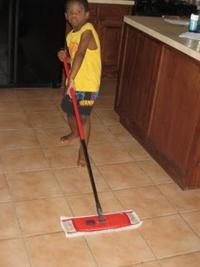person without safety: (58, 1, 103, 168)
